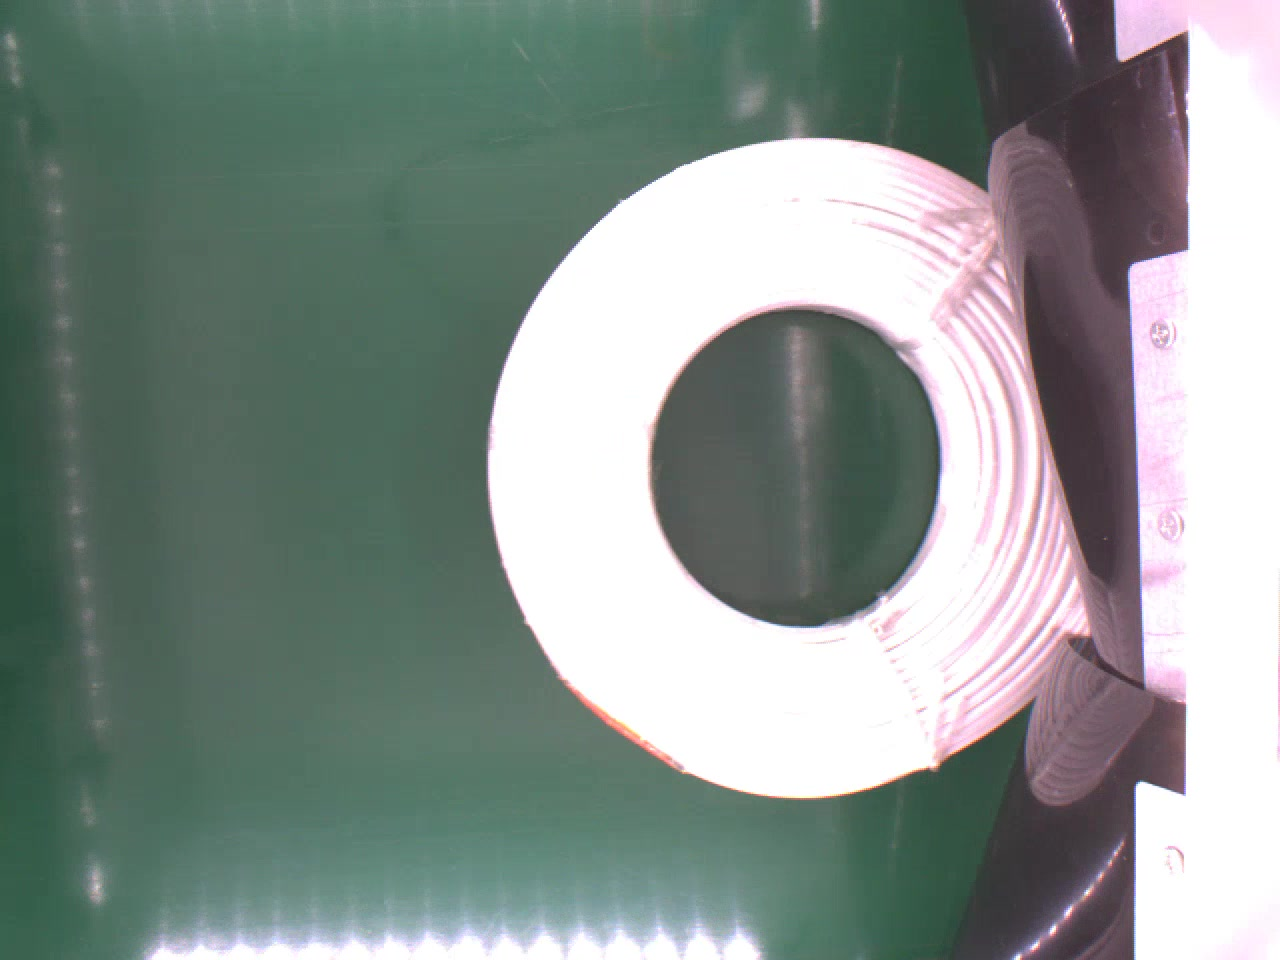white: (485, 135, 1101, 806)
